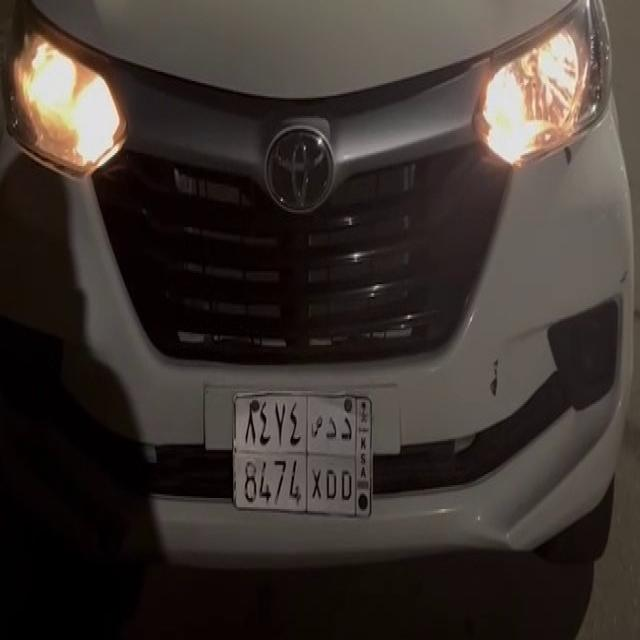Car-plate: (223, 358, 380, 530)
